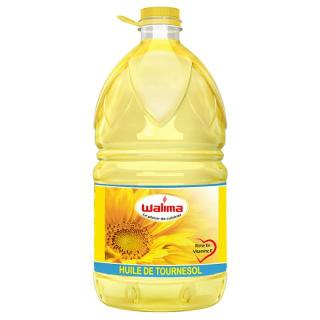Plastic-bottle: (87, 3, 239, 317)
